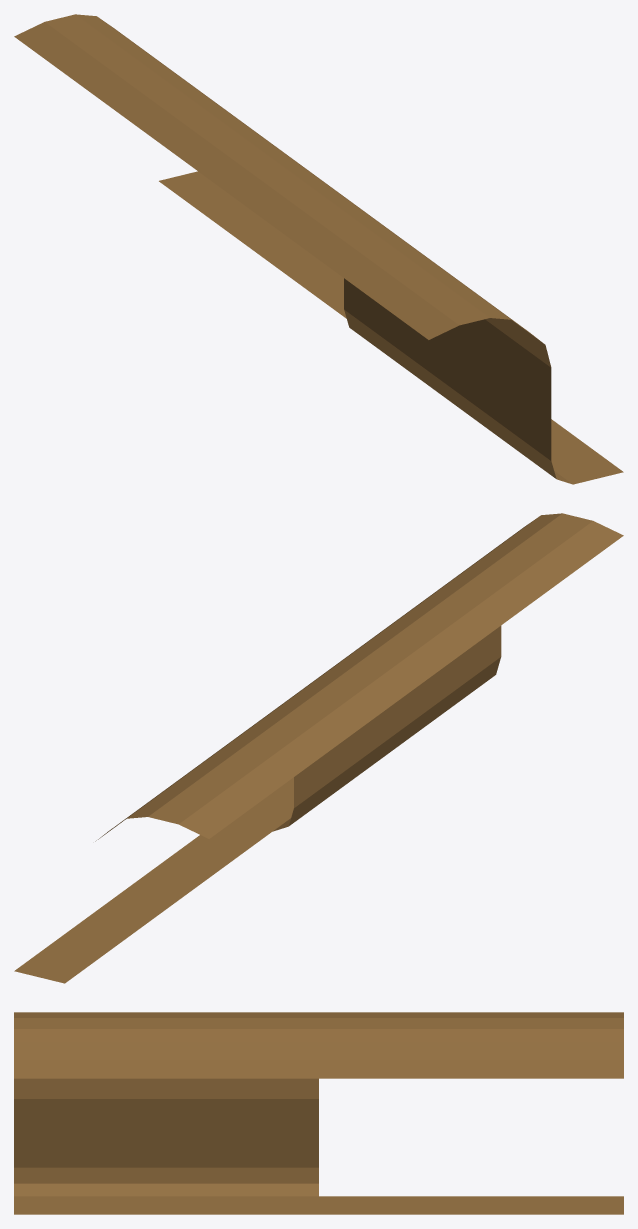
File: Entrance.fbx
The picture shows the model from 3 angles, top to bottom: view 1: azimuth 30°, elevation 25°; view 2: azimuth 150°, elevation 25°; view 3: azimuth 270°, elevation 25°; orthographic projection. The views are drawn at different scales.
Visible parts, largest first — view 1: Entrance; view 2: Entrance; view 3: Entrance.
Part boxes in pixels (left/top/right/bottom): Entrance: left=14, top=14, right=623, bottom=484; Entrance: left=14, top=513, right=623, bottom=983; Entrance: left=14, top=1012, right=623, bottom=1214.
Bounding box in the file's own units: 318 × 291 × 1171.
